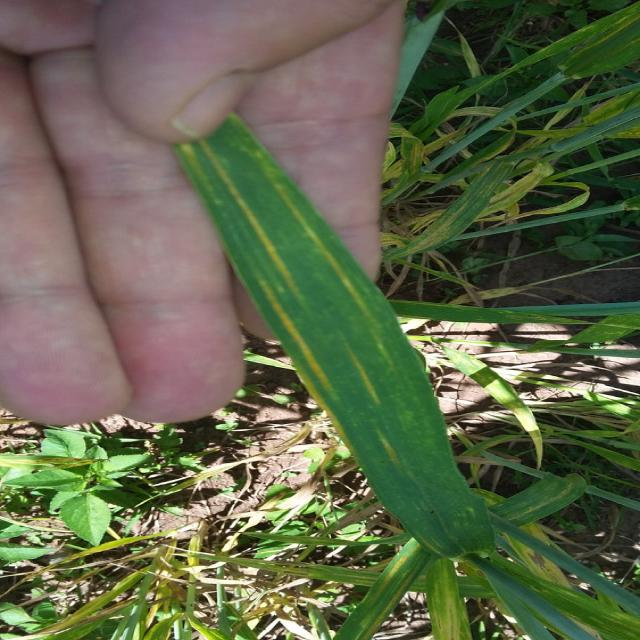wheat-yellowrust: (271, 183, 380, 330), (207, 147, 291, 280), (269, 284, 344, 396), (429, 578, 478, 638), (351, 350, 389, 402), (378, 432, 405, 461)
